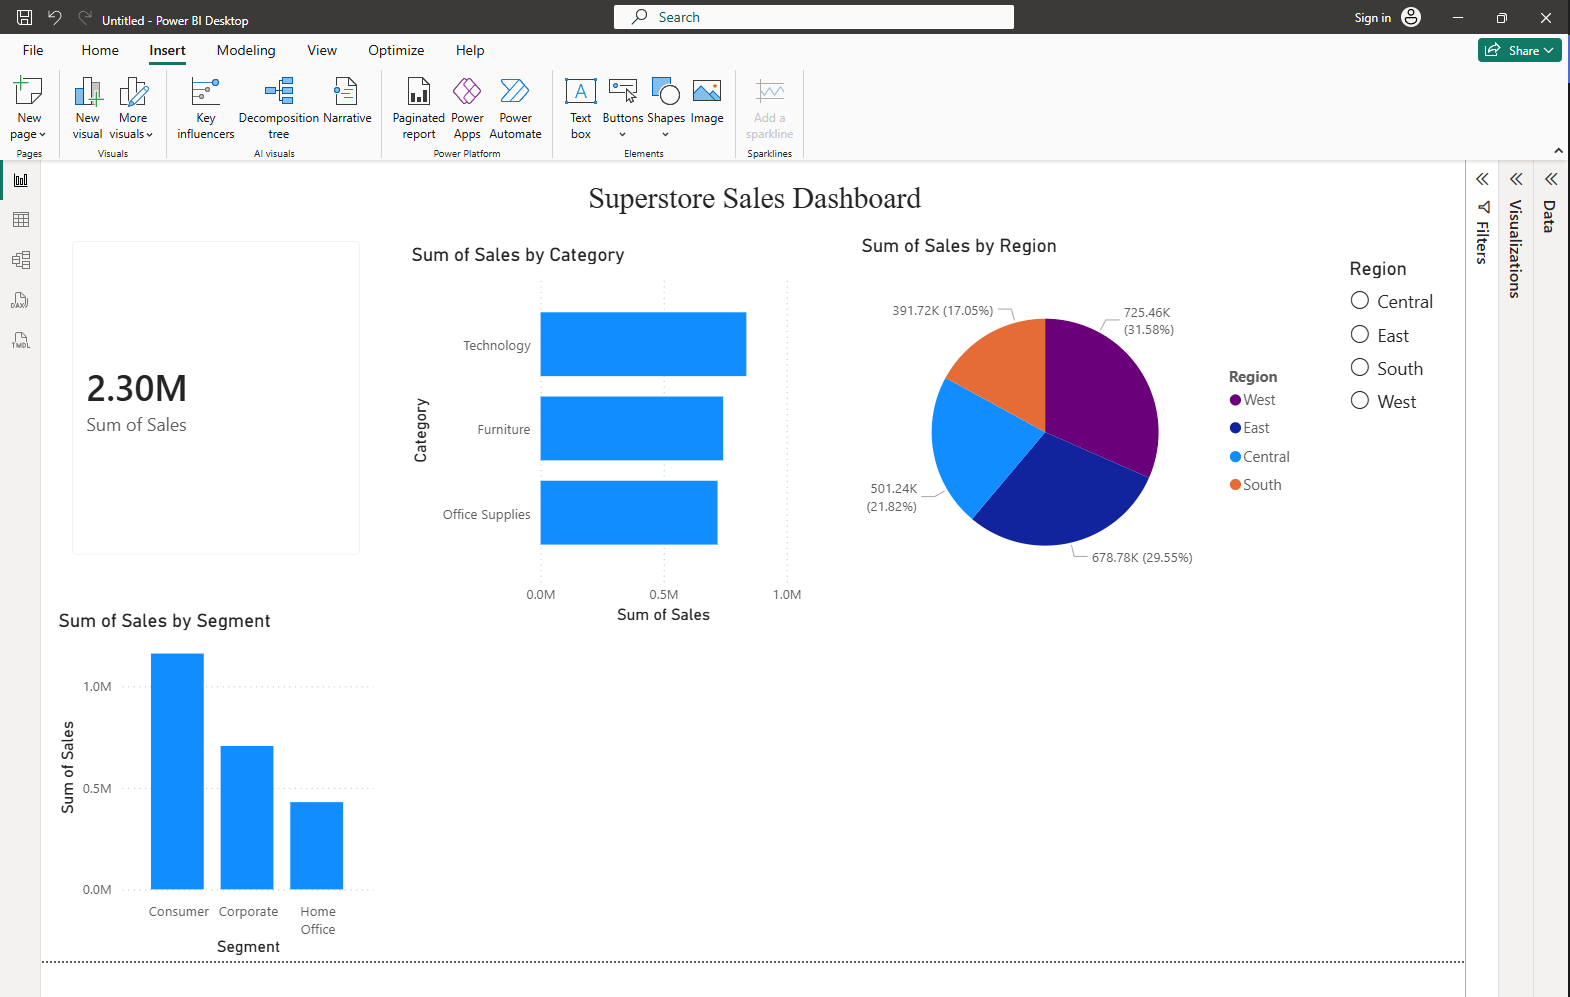

The page's visual inventory and layout, read from the dashboard file:
{"tool":"powerbi","page":{"name":"Page 1","canvas":[1280,720],"ordinal":0},"visuals":[{"type":"cardVisual","fields":{"Data":["Sum(Sample - Superstore.Sales)"]},"box":[10.6,55.8,293.4,316],"z":0},{"type":"clusteredBarChart","fields":{"Category":["Sample - Superstore.Category"],"Y":["Sum(Sample - Superstore.Sales)"]},"box":[328,74.4,361.2,346.6],"z":1000},{"type":"pieChart","fields":{"Category":["Sample - Superstore.Region"],"Y":["Sum(Sample - Superstore.Sales)"]},"box":[732.9,66.4,405,337.3],"z":2000},{"type":"clusteredColumnChart","fields":{"Category":["Sample - Superstore.Segment"],"Y":["Sum(Sample - Superstore.Sales)"]},"box":[10.6,403.7,293.4,316],"z":3000},{"type":"listSlicer","fields":{"Values":["Sample - Superstore.Region"]},"box":[1171.1,87.6,98.3,316],"z":4000},{"type":"textbox","box":[447.5,14.6,387.7,51.8],"z":4002}]}

Visuals, with their boxes on the page's 1280x720 design canvas (x1, y1, x2, y2). These are canvas units, not pixel positions in the 1570x997 screenshot, which may show the page scaled, cropped or inside an application window:
cardVisual - Sum(Sample - Superstore.Sales): x1=11, y1=56, x2=304, y2=372
clusteredBarChart - Sample - Superstore.Category x Sum(Sample - Superstore.Sales): x1=328, y1=74, x2=689, y2=421
pieChart - Sample - Superstore.Region x Sum(Sample - Superstore.Sales): x1=733, y1=66, x2=1138, y2=404
clusteredColumnChart - Sample - Superstore.Segment x Sum(Sample - Superstore.Sales): x1=11, y1=404, x2=304, y2=720
listSlicer - Sample - Superstore.Region: x1=1171, y1=88, x2=1269, y2=404
textbox: x1=448, y1=15, x2=835, y2=66
